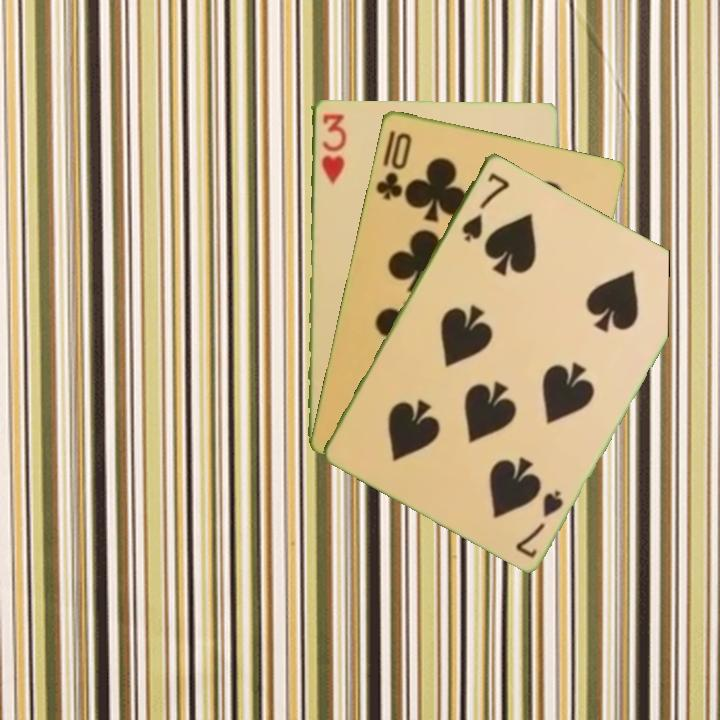10c: (372, 128, 414, 203)
3h: (317, 109, 348, 186)
7s: (511, 486, 566, 561), (458, 168, 512, 244)
